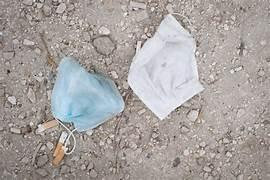Mask: (128, 15, 202, 118), (51, 57, 123, 131)
